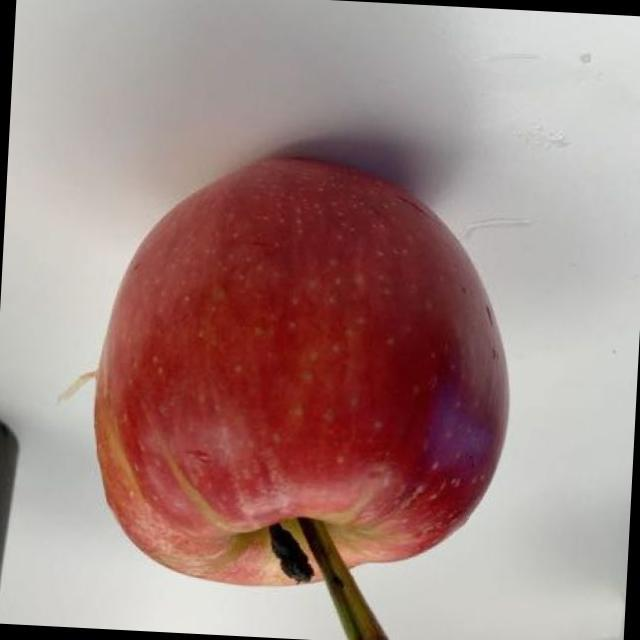Apple: (67, 131, 529, 640)
